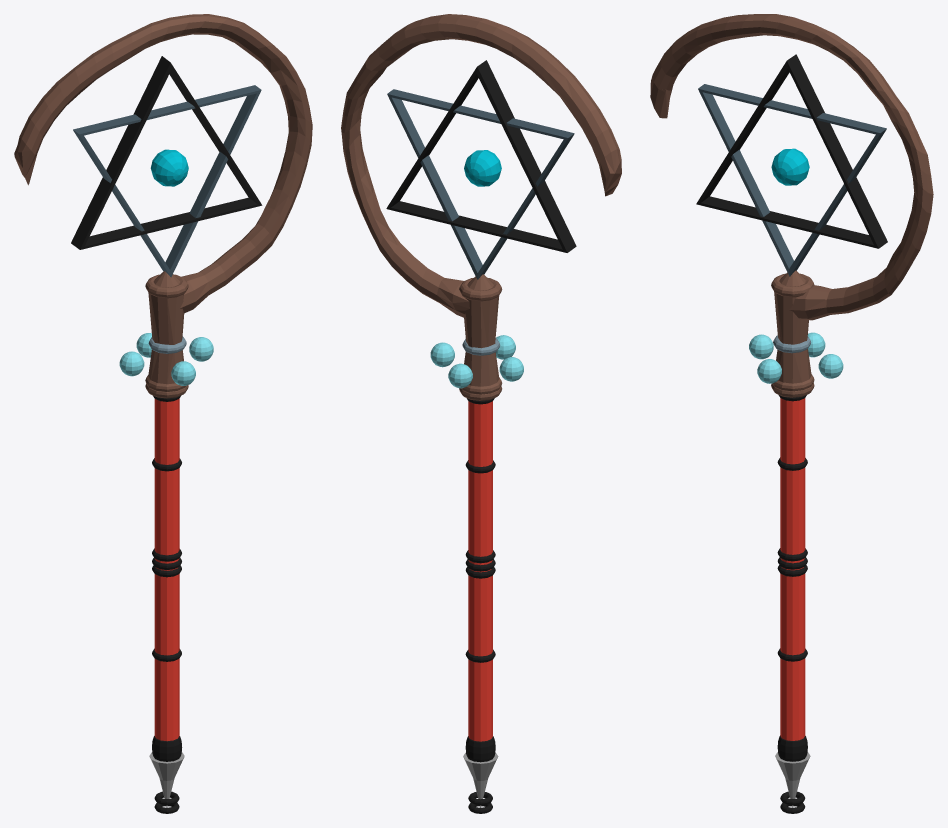
The model's file is keychain-charm.glb.
3 renders of one model, left to right at view 1: azimuth 30°, elevation 25°; view 2: azimuth 150°, elevation 25°; view 3: azimuth 330°, elevation 25°, orthographic.
Visible parts, largest first — view 1: group1824828629, group835758789, group652101582, group943616944, group1294698649, group2100485742, group242607239, group365804501, group492482658, group895211030, group255370361, group1255388254 (+1 smaller); view 2: group1824828629, group835758789, group652101582, group943616944, group1294698649, group2100485742, group242607239, group365804501, group492482658, group895211030, group255370361, group1255388254 (+1 smaller); view 3: group1824828629, group835758789, group365804501, group895211030, group1294698649, group2100485742, group652101582, group242607239, group943616944, group492482658, group255370361, group1255388254 (+2 smaller).
Part boxes in pixels (bbox=[...]): group1824828629: bbox=[14, 14, 312, 313]; group835758789: bbox=[154, 398, 179, 741]; group652101582: bbox=[72, 56, 171, 247]; group943616944: bbox=[165, 92, 259, 276]; group1294698649: bbox=[71, 197, 262, 249]; group2100485742: bbox=[73, 85, 261, 136]; group242607239: bbox=[148, 292, 184, 344]; group365804501: bbox=[169, 62, 260, 204]; group492482658: bbox=[150, 149, 188, 186]; group895211030: bbox=[74, 132, 170, 276]; group255370361: bbox=[148, 350, 183, 384]; group1255388254: bbox=[152, 736, 182, 761]; group1824828629: bbox=[341, 14, 621, 317]; group835758789: bbox=[468, 401, 492, 741]; group652101582: bbox=[477, 60, 575, 250]; group943616944: bbox=[388, 96, 482, 279]; group1294698649: bbox=[386, 201, 576, 252]; group2100485742: bbox=[387, 89, 574, 139]; group242607239: bbox=[464, 295, 499, 348]; group365804501: bbox=[387, 67, 478, 207]; group492482658: bbox=[464, 150, 501, 186]; group895211030: bbox=[477, 136, 572, 279]; group255370361: bbox=[464, 351, 499, 386]; group1255388254: bbox=[465, 736, 495, 762]; group1824828629: bbox=[650, 14, 933, 320]; group835758789: bbox=[780, 398, 805, 740]; group365804501: bbox=[787, 54, 886, 245]; group895211030: bbox=[699, 91, 793, 275]; group1294698649: bbox=[696, 196, 887, 248]; group2100485742: bbox=[698, 84, 886, 135]; group652101582: bbox=[697, 61, 789, 202]; group242607239: bbox=[774, 291, 808, 344]; group943616944: bbox=[789, 131, 885, 276]; group492482658: bbox=[771, 148, 809, 185]; group255370361: bbox=[776, 349, 811, 383]; group1255388254: bbox=[777, 735, 807, 761].
Bounding box in the file's own units: 2.52 × 6.65 × 0.78.
